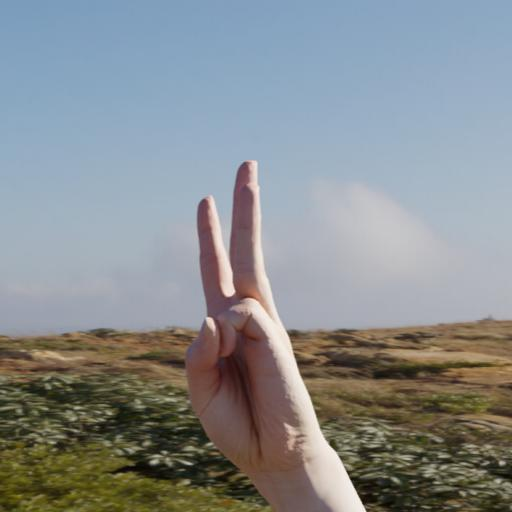W: (152, 143, 359, 512)
